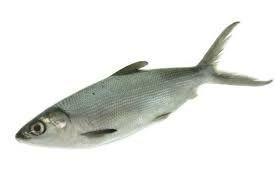Bangus: (16, 20, 272, 151)
